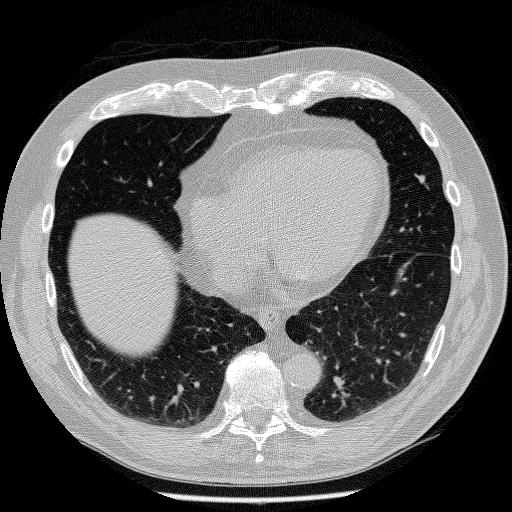nodule: (415, 172, 428, 185)
